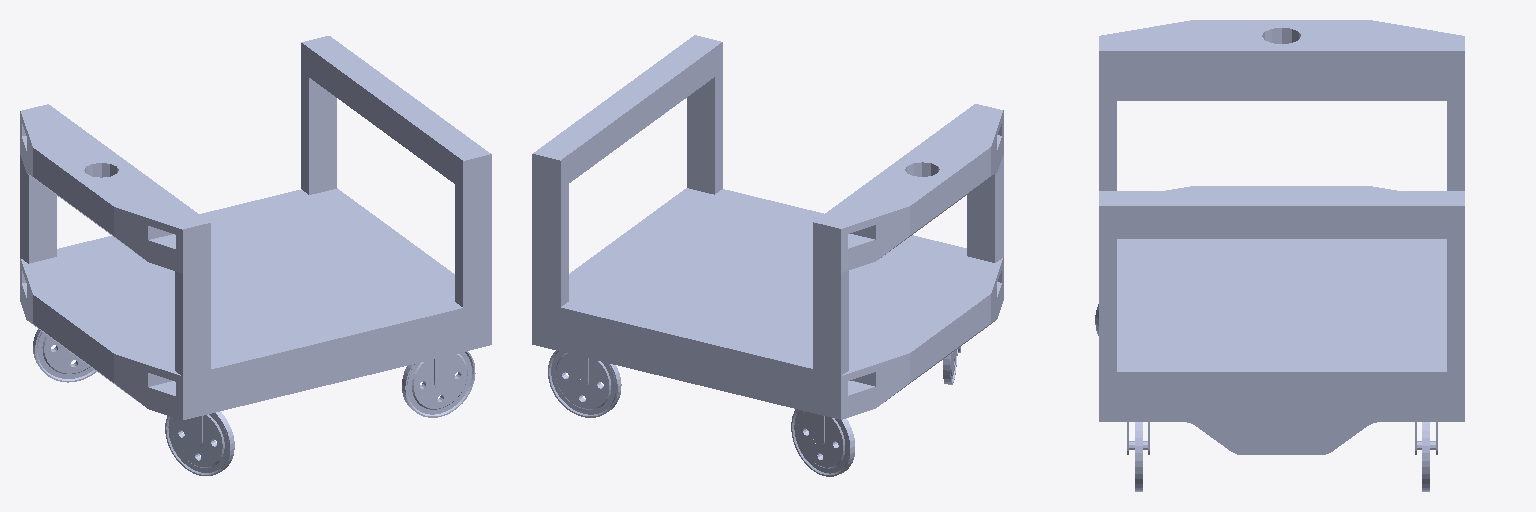
URDF robot description (cartf):
<?xml version="1.0" encoding="utf-8"?>
<!-- This URDF was automatically created by SolidWorks to URDF Exporter! Originally created by [author] ([email redacted]) 
     Commit Version: 1.6.0-1-g15f4949  Build Version: 1.6.7594.29634
     For more information, please see http://wiki.ros.org/sw_urdf_exporter -->
<robot
  name="cartf">
 <link 
    name="dummy_link">
  </link>
  <joint
    name="dummy_joint"
    type="fixed">
     <parent
      link="dummy_link" />
    <child
      link="chasis" />
  </joint>
  <link
    name="chasis">
    <inertial>
      <origin
        xyz="0.306715325013249 -2.71753020976429E-06 -0.00815667635088907"
        rpy="0 0 0" />
      <mass
        value="33.2144018580194" />
      <inertia
        ixx="0.956231733187828"
        ixy="2.11975354628092E-06"
        ixz="0.11287715356547"
        iyy="1.47602928869039"
        iyz="-4.42219326557769E-06"
        izz="1.78987781011623" />
    </inertial>
    <visual>
      <origin
        xyz="0 0 0"
        rpy="0 0 0" />
      <geometry>
        <mesh
          filename="package://cartf/meshes/chasis.STL" />
      </geometry>
      <material
        name="">
        <color
          rgba="0.792156862745098 0.819607843137255 0.933333333333333 1" />
      </material>
    </visual>
    <collision>
      <origin
        xyz="0 0 0"
        rpy="0 0 0" />
      <geometry>
        <mesh
          filename="package://cartf/meshes/chasis.STL" />
      </geometry>
    </collision>
  </link>
  <link
    name="rr_spindle">
    <inertial>
      <origin
        xyz="-2.77555756156289E-17 -0.0206015076592078 1.11022302462516E-16"
        rpy="0 0 0" />
      <mass
        value="0.032963329762829" />
      <inertia
        ixx="3.15195491740579E-05"
        ixy="-1.99865146250362E-20"
        ixz="-2.99046320933935E-22"
        iyy="5.29773895211035E-06"
        iyz="3.53680736486934E-22"
        izz="3.29550665766564E-05" />
    </inertial>
    <visual>
      <origin
        xyz="0 0 0"
        rpy="0 0 0" />
      <geometry>
        <mesh
          filename="package://cartf/meshes/rr_spindle.STL" />
      </geometry>
      <material
        name="">
        <color
          rgba="0.792156862745098 0.819607843137255 0.933333333333333 1" />
      </material>
    </visual>
    <collision>
      <origin
        xyz="0 0 0"
        rpy="0 0 0" />
      <geometry>
        <mesh
          filename="package://cartf/meshes/rr_spindle.STL" />
      </geometry>
    </collision>
  </link>
  <joint
    name="rrs_joint"
    type="fixed">
    <origin
      xyz="0.5461 0.200455304230583 -0.05715"
      rpy="1.5707963267949 0 -1.5707963267949" />
    <parent
      link="chasis" />
    <child
      link="rr_spindle" />
    <axis
      xyz="0 0 0" />
  </joint>
  <link
    name="rr_wheel">
    <inertial>
      <origin
        xyz="-1.11022302462516E-16 -1.38777878078145E-17 0"
        rpy="0 0 0" />
      <mass
        value="0.125423442065565" />
      <inertia
        ixx="0.000120072398611804"
        ixy="-1.91230954179958E-23"
        ixz="3.81164826264435E-21"
        iyy="0.000237185353944132"
        iyz="-5.33287966975338E-22"
        izz="0.000120072398611804" />
    </inertial>
    <visual>
      <origin
        xyz="0 0 0"
        rpy="0 0 0" />
      <geometry>
        <mesh
          filename="package://cartf/meshes/rr_wheel.STL" />
      </geometry>
      <material
        name="">
        <color
          rgba="0.792156862745098 0.819607843137255 0.933333333333333 1" />
      </material>
    </visual>
    <collision>
      <origin
        xyz="0 0 0"
        rpy="0 0 0" />
      <geometry>
        <mesh
          filename="package://cartf/meshes/rr_wheel.STL" />
      </geometry>
    </collision>
  </link>
  <joint
    name="rrw_joint"
    type="fixed">
    <origin
      xyz="0 -0.08509 0"
      rpy="3.14159265358979 1.54340479703384 1.5707963267949" />
    <parent
      link="rr_spindle" />
    <child
      link="rr_wheel" />
    <axis
      xyz="0 0 0" />
  </joint>
  <link
    name="rl_spindle">
    <inertial>
      <origin
        xyz="0 -0.0396515076592077 1.11022302462516E-16"
        rpy="0 0 0" />
      <mass
        value="0.0329633297628291" />
      <inertia
        ixx="3.15195491740579E-05"
        ixy="-6.98098857709146E-20"
        ixz="3.47008933615623E-22"
        iyy="5.29773895211036E-06"
        iyz="-1.29829194023181E-22"
        izz="3.29550665766565E-05" />
    </inertial>
    <visual>
      <origin
        xyz="0 0 0"
        rpy="0 0 0" />
      <geometry>
        <mesh
          filename="package://cartf/meshes/rl_spindle.STL" />
      </geometry>
      <material
        name="">
        <color
          rgba="0.792156862745098 0.819607843137255 0.933333333333333 1" />
      </material>
    </visual>
    <collision>
      <origin
        xyz="0 0 0"
        rpy="0 0 0" />
      <geometry>
        <mesh
          filename="package://cartf/meshes/rl_spindle.STL" />
      </geometry>
    </collision>
  </link>
  <joint
    name="rls_joint"
    type="continuous">
    <origin
      xyz="0.5461 -0.198324695769416 -0.0381"
      rpy="1.5707963267949 0 -1.5707963267949" />
    <parent
      link="chasis" />
    <child
      link="rl_spindle" />
    <axis
      xyz="0 1 0" />
  </joint>
  <link
    name="rl_wheel">
    <inertial>
      <origin
        xyz="-0.00148279198290668 5.55111512312578E-17 0.0541196907597912"
        rpy="0 0 0" />
      <mass
        value="0.125423442065565" />
      <inertia
        ixx="0.000120072398611804"
        ixy="-2.9583421033843E-23"
        ixz="3.81164826264435E-21"
        iyy="0.000237185353944132"
        iyz="-3.63860835099325E-22"
        izz="0.000120072398611804" />
    </inertial>
    <visual>
      <origin
        xyz="0 0 0"
        rpy="0 0 0" />
      <geometry>
        <mesh
          filename="package://cartf/meshes/rl_wheel.STL" />
      </geometry>
      <material
        name="">
        <color
          rgba="0.792156862745098 0.819607843137255 0.933333333333333 1" />
      </material>
    </visual>
    <collision>
      <origin
        xyz="0 0 0"
        rpy="0 0 0" />
      <geometry>
        <mesh
          filename="package://cartf/meshes/rl_wheel.STL" />
      </geometry>
    </collision>
  </link>
  <joint
    name="rlw_joint"
    type="continuous">
    <origin
      xyz="0 -0.05 0"
      rpy="3.14159265358979 1.54340479703384 1.5707963267949" />
    <parent
      link="rl_spindle" />
    <child
      link="rl_wheel" />
    <axis
      xyz="0.0273881045974643 0 -0.999624875504085" />
  </joint>
  <link
    name="fr_spindle">
    <inertial>
      <origin
        xyz="1.52655665885959E-16 -0.0396515076592076 8.88178419700125E-16"
        rpy="0 0 0" />
      <mass
        value="0.0329633297628289" />
      <inertia
        ixx="3.15195491740577E-05"
        ixy="-3.26037767873418E-21"
        ixz="1.05879118406788E-20"
        iyy="5.29773895211029E-06"
        iyz="-6.4567825328811E-21"
        izz="3.29550665766563E-05" />
    </inertial>
    <visual>
      <origin
        xyz="0 0 0"
        rpy="0 0 0" />
      <geometry>
        <mesh
          filename="package://cartf/meshes/fr_spindle.STL" />
      </geometry>
      <material
        name="">
        <color
          rgba="0.792156862745098 0.819607843137255 0.933333333333333 1" />
      </material>
    </visual>
    <collision>
      <origin
        xyz="0 0 0"
        rpy="0 0 0" />
      <geometry>
        <mesh
          filename="package://cartf/meshes/fr_spindle.STL" />
      </geometry>
    </collision>
  </link>
  <joint
    name="frs_joint"
    type="continuous">
    <origin
      xyz="0.1143 0.200662394443895 -0.0380999999999998"
      rpy="1.5707963267949 0 -1.79506698933366" />
    <parent
      link="chasis" />
    <child
      link="fr_spindle" />
    <axis
      xyz="0 1 0" />
  </joint>
  <link
    name="fr_wheel">
    <inertial>
      <origin
        xyz="-0.00148279198290791 1.2490009027033E-16 0.0541196907597912"
        rpy="0 0 0" />
      <mass
        value="0.125423442065565" />
      <inertia
        ixx="0.000120072398611804"
        ixy="6.82708555486966E-19"
        ixz="6.35274710440725E-21"
        iyy="0.000237185353944132"
        iyz="5.72806030580721E-20"
        izz="0.000120072398611804" />
    </inertial>
    <visual>
      <origin
        xyz="0 0 0"
        rpy="0 0 0" />
      <geometry>
        <mesh
          filename="package://cartf/meshes/fr_wheel.STL" />
      </geometry>
      <material
        name="">
        <color
          rgba="0.792156862745098 0.819607843137255 0.933333333333333 1" />
      </material>
    </visual>
    <collision>
      <origin
        xyz="0 0 0"
        rpy="0 0 0" />
      <geometry>
        <mesh
          filename="package://cartf/meshes/fr_wheel.STL" />
      </geometry>
    </collision>
  </link>
  <joint
    name="frw_joint"
    type="continuous">
    <origin
      xyz="0 -0.05 0"
      rpy="3.14159265358979 1.54340479703383 1.5707963267949" />
    <parent
      link="fr_spindle" />
    <child
      link="fr_wheel" />
    <axis
      xyz="0.02738810459747 0 -0.999624875504085" />
  </joint>
  <link
    name="fl_spindle">
    <inertial>
      <origin
        xyz="2.22044604925031E-16 -0.0396515076592077 -5.55111512312578E-17"
        rpy="0 0 0" />
      <mass
        value="0.032963329762829" />
      <inertia
        ixx="3.15195491740578E-05"
        ixy="-1.19324752228375E-20"
        ixz="1.6940658945086E-21"
        iyy="5.29773895211036E-06"
        iyz="1.72142061655695E-21"
        izz="3.29550665766563E-05" />
    </inertial>
    <visual>
      <origin
        xyz="0 0 0"
        rpy="0 0 0" />
      <geometry>
        <mesh
          filename="package://cartf/meshes/fl_spindle.STL" />
      </geometry>
      <material
        name="">
        <color
          rgba="0.792156862745098 0.819607843137255 0.933333333333333 1" />
      </material>
    </visual>
    <collision>
      <origin
        xyz="0 0 0"
        rpy="0 0 0" />
      <geometry>
        <mesh
          filename="package://cartf/meshes/fl_spindle.STL" />
      </geometry>
    </collision>
  </link>
  <joint
    name="fls_joint"
    type="continuous">
    <origin
      xyz="0.1143 -0.198324695769416 -0.0381"
      rpy="1.5707963267949 0 -2.72589179740421" />
    <parent
      link="chasis" />
    <child
      link="fl_spindle" />
    <axis
      xyz="0 1 0" />
  </joint>
  <link
    name="fl_wheel">
    <inertial>
      <origin
        xyz="-0.00148279198290707 6.66133814775094E-16 0.054119690759791"
        rpy="0 0 0" />
      <mass
        value="0.125423442065566" />
      <inertia
        ixx="0.000120072398611805"
        ixy="2.5410988417629E-19"
        ixz="1.16467030247466E-21"
        iyy="0.000237185353944134"
        iyz="7.72917564369549E-21"
        izz="0.000120072398611805" />
    </inertial>
    <visual>
      <origin
        xyz="0 0 0"
        rpy="0 0 0" />
      <geometry>
        <mesh
          filename="package://cartf/meshes/fl_wheel.STL" />
      </geometry>
      <material
        name="">
        <color
          rgba="0.792156862745098 0.819607843137255 0.933333333333333 1" />
      </material>
    </visual>
    <collision>
      <origin
        xyz="0 0 0"
        rpy="0 0 0" />
      <geometry>
        <mesh
          filename="package://cartf/meshes/fl_wheel.STL" />
      </geometry>
    </collision>
  </link>
  <joint
    name="flw_joint"
    type="continuous">
    <origin
      xyz="0 -0.05 0"
      rpy="3.14159265358979 1.54340479703384 1.5707963267949" />
    <parent
      link="fl_spindle" />
    <child
      link="fl_wheel" />
    <axis
      xyz="0.02738810459747 0 -0.999624875504085" />
  </joint>
<transmission name="steer_right">
     <type>transmission_interface/SimpleTransmission</type>
     <joint name="frs_joint">
       <hardwareInterface>hardware_interface/EffortJointInterface</hardwareInterface>
     </joint>
     <actuator name="r_steer">
       <!--hardwareInterface>hardware_interface/EffortJointInterface</hardwareInterface-->
       <mechanicalReduction>2</mechanicalReduction>
     </actuator>
   </transmission>
 <transmission name="steer_left">
     <type>transmission_interface/SimpleTransmission</type>
     <joint name="fls_joint">
       <hardwareInterface>hardware_interface/EffortJointInterface</hardwareInterface>
     </joint>
     <actuator name="l_steer">
       <!--hardwareInterface>hardware_interface/EffortJointInterface</hardwareInterface-->
       <mechanicalReduction>2</mechanicalReduction>
     </actuator>
   </transmission>
 <transmission name="rear_right">
     <type>transmission_interface/SimpleTransmission</type>
     <joint name="rrs_joint">
       <hardwareInterface>hardware_interface/VelocityJointInterface</hardwareInterface>
     </joint>
     <actuator name="rr_wheel">
       <!--hardwareInterface>hardware_interface/VelocityJointInterface</hardwareInterface-->
       <mechanicalReduction>2</mechanicalReduction>
     </actuator>
   </transmission>
<transmission name="rear_left">
     <type>transmission_interface/SimpleTransmission</type>
     <joint name="rls_joint">
       <hardwareInterface>hardware_interface/VelocityJointInterface</hardwareInterface>
     </joint>
     <actuator name="rl_wheel">
       <!--hardwareInterface>hardware_interface/VelocityJointInterface</hardwareInterface-->
       <mechanicalReduction>2</mechanicalReduction>
     </actuator>
   </transmission>
</robot>

--- What the picture shows (computed from the rendered views, not written in the file) ---
3 views of the same robot in one strip: view 1: azimuth 30°, elevation 25°; view 2: azimuth 150°, elevation 25°; view 3: azimuth 270°, elevation 25° (orthographic).
Model cartf with 10 links and 9 joints (6 continuous, 3 fixed), rooted at dummy_link, posed all joints at 0.
Visible links, largest first — view 1: chasis, rl_wheel, fl_wheel, fr_wheel; view 2: chasis, rr_wheel, fr_wheel, rr_spindle; view 3: chasis, rr_wheel, rl_wheel.
Link boxes in pixels (x1,y1,x2,y2): chasis: [20, 36, 491, 420]; rl_wheel: [402, 351, 475, 417]; fl_wheel: [165, 411, 234, 475]; fr_wheel: [33, 329, 96, 382]; chasis: [532, 35, 1003, 419]; rr_wheel: [548, 351, 621, 417]; fr_wheel: [791, 409, 854, 476]; rr_spindle: [571, 354, 588, 389]; chasis: [1099, 20, 1464, 454]; rr_wheel: [1417, 422, 1435, 491]; rl_wheel: [1129, 422, 1147, 491].
Bounding box of the posed robot: 0.6096 × 0.5126 × 0.4597 m (x, y, z).
9 mesh visuals loaded from 9 distinct referenced files (9 binary STL).
